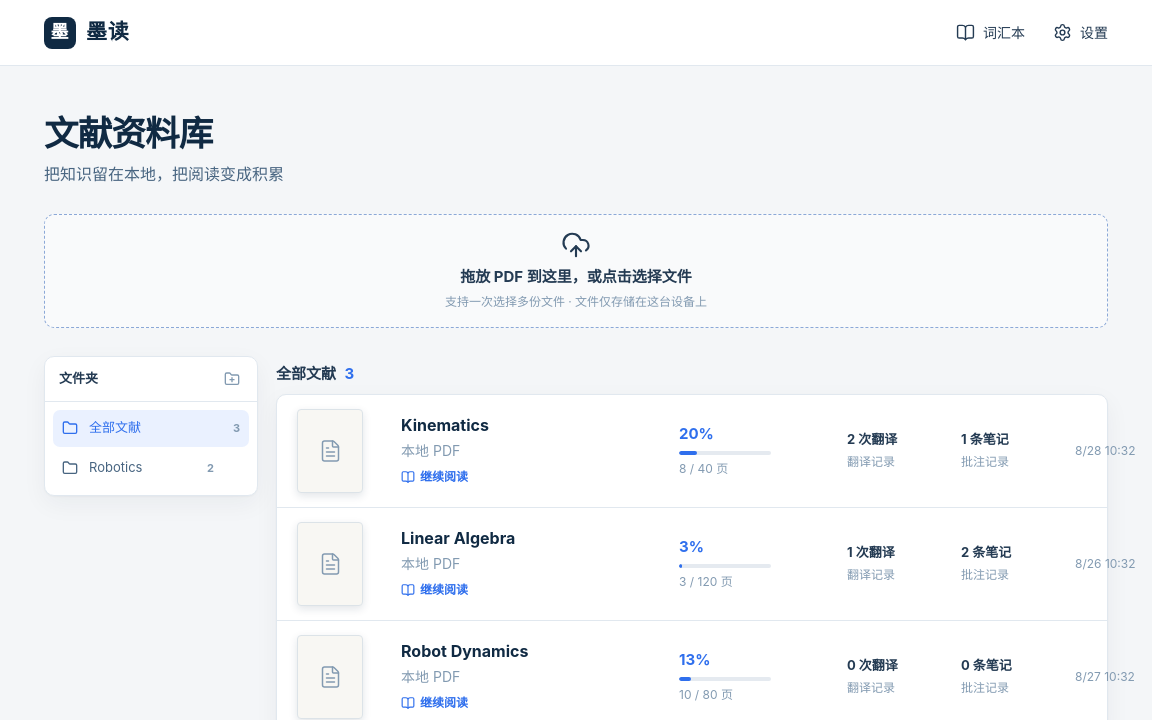
Test: LibraryScreen › keeps the folder dialog open and shows a validation failure
The image size is (1152, 720).
Click the button named "新建文件夹" at (232, 379), box [217,364,247,394]
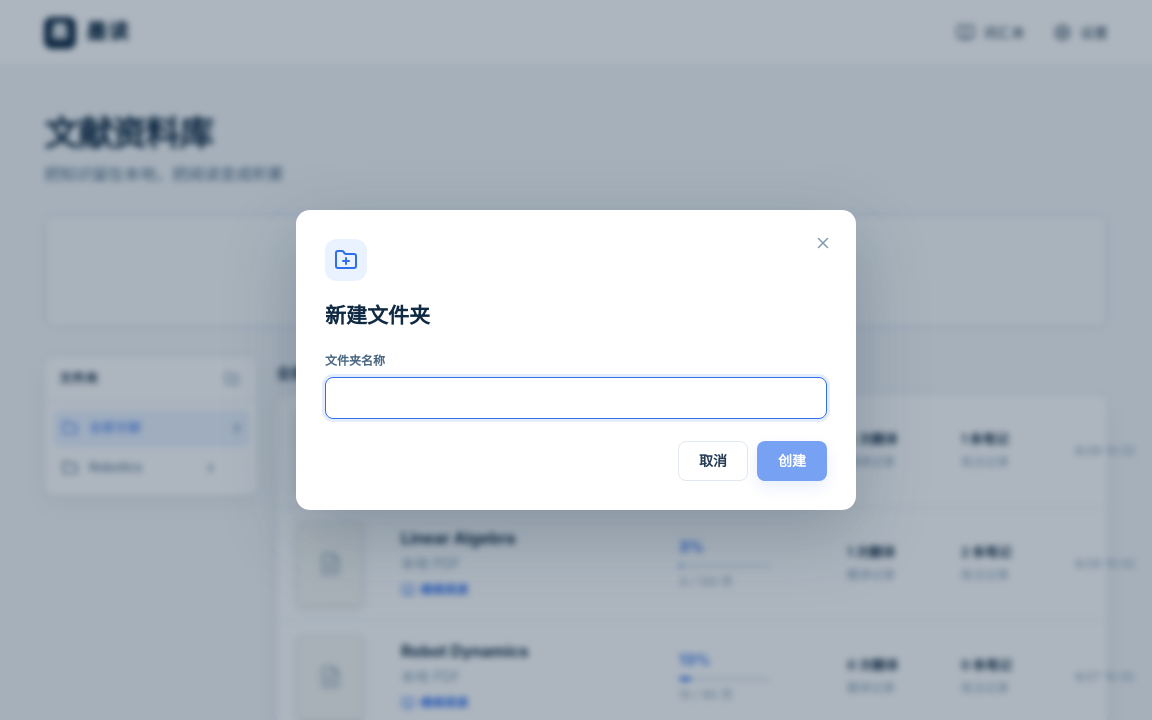
Type "Robotics" into the field labelled "文件夹名称" at (576, 398), box [325,377,827,419]
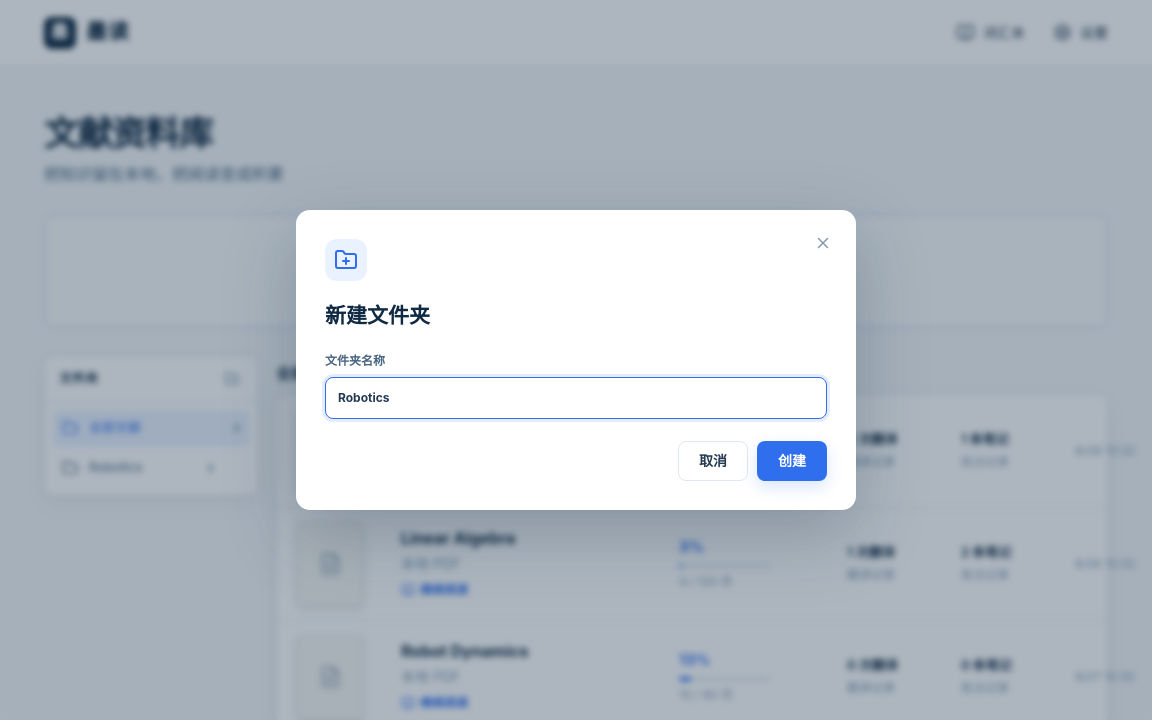
Click the button "创建" at (792, 461), box [757,441,827,481]
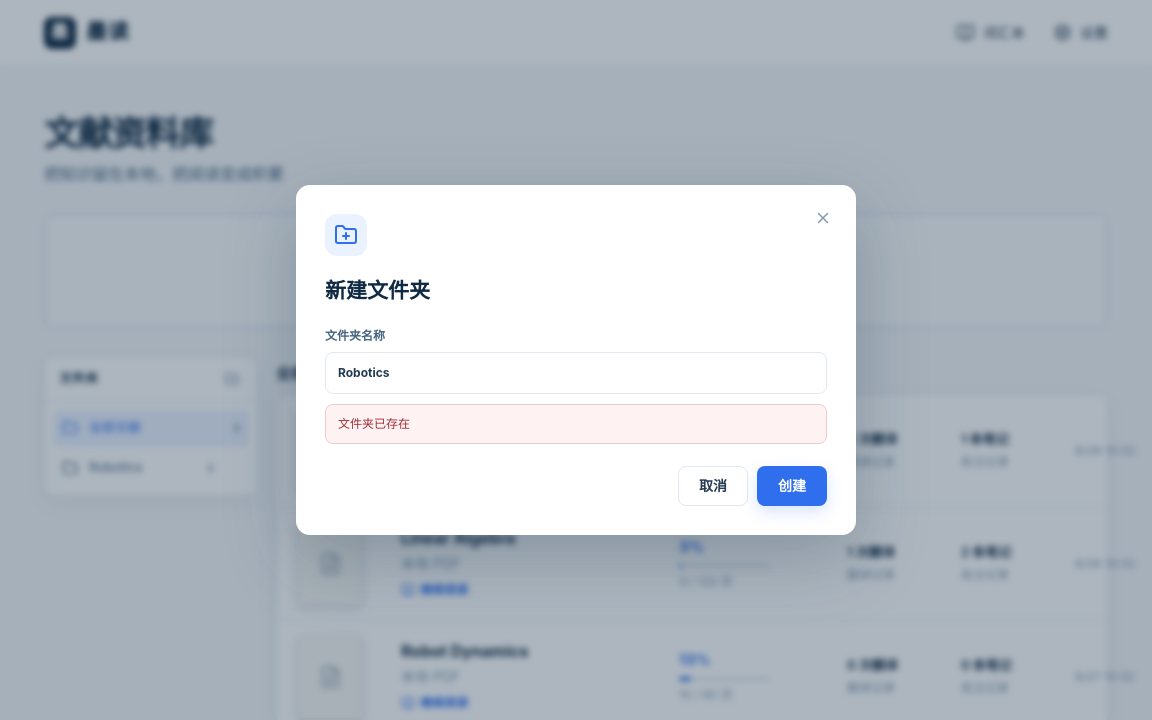
Check: the dialog "新建文件夹" is shown, box [296,185,856,535]
Check: the message reads "文件夹已存在", box [338,416,410,431]
